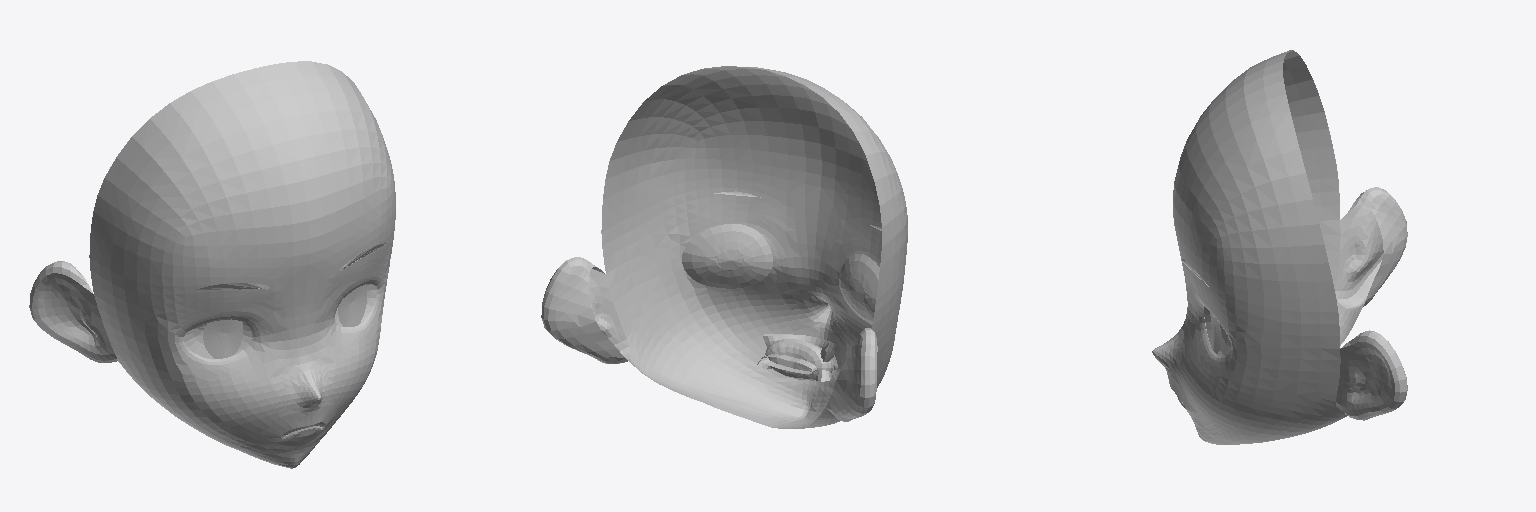
The model's file is mouthShrugLower.obj.
The picture shows the model from 3 angles: view 1: azimuth 30°, elevation 25°; view 2: azimuth 150°, elevation 25°; view 3: azimuth 270°, elevation 25°; orthographic projection.
Parts seen in each view (by area): view 1: Face; view 2: Face; view 3: Face.
Part boxes in pixels (left/top/right/bottom): Face: left=29, top=61, right=395, bottom=468; Face: left=541, top=66, right=907, bottom=428; Face: left=1152, top=50, right=1407, bottom=444.
Bounding box in the file's own units: 0.2176 × 0.2333 × 0.1449.